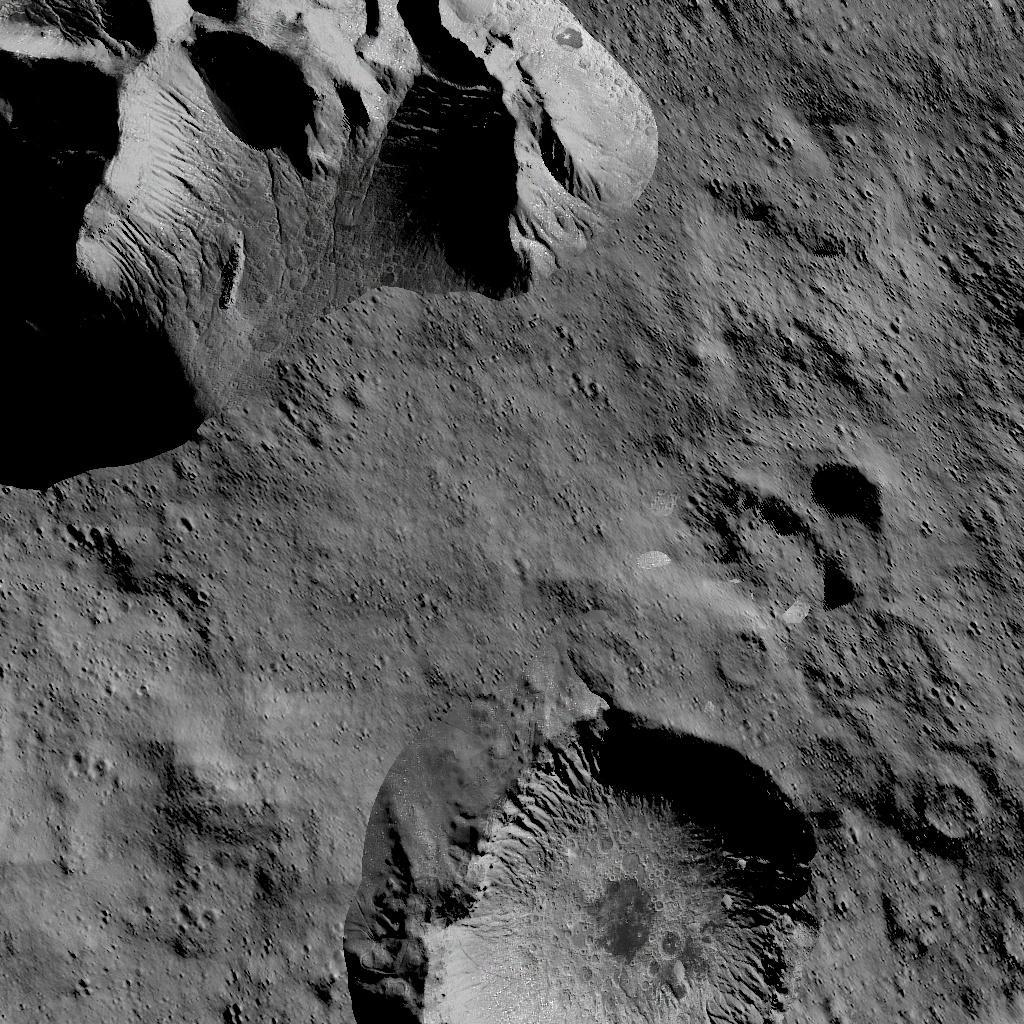Boulders: (0, 0, 666, 489)
Crater: (325, 702, 810, 1024), (696, 452, 882, 615), (896, 762, 968, 842), (957, 875, 1024, 959), (700, 629, 762, 692)
Plan surface: (711, 0, 1024, 441), (3, 516, 650, 690), (3, 696, 301, 1024)
